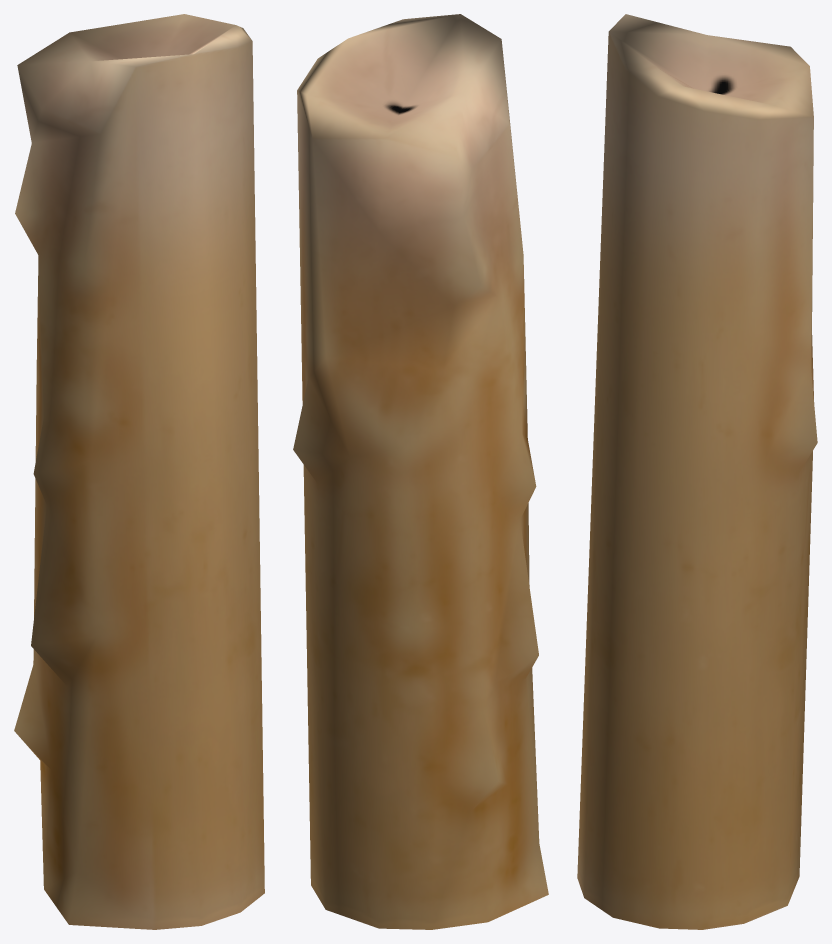
File: SM_Candles_006.fbx
3 views of the same model, side by side, from view 1: azimuth 30°, elevation 25°; view 2: azimuth 150°, elevation 25°; view 3: azimuth 270°, elevation 25° (orthographic).
Visible parts, largest first — view 1: SM_Candles_006_LOD0; view 2: SM_Candles_006_LOD0; view 3: SM_Candles_006_LOD0.
Part boxes in pixels (x1,y1,x2,y2): SM_Candles_006_LOD0: (14,14,264,929); SM_Candles_006_LOD0: (293,14,548,929); SM_Candles_006_LOD0: (577,14,817,929).
Size of the model in its own units: 2.86 by 2.74 by 10.72.
Materials: 1 (1 with a texture image).
